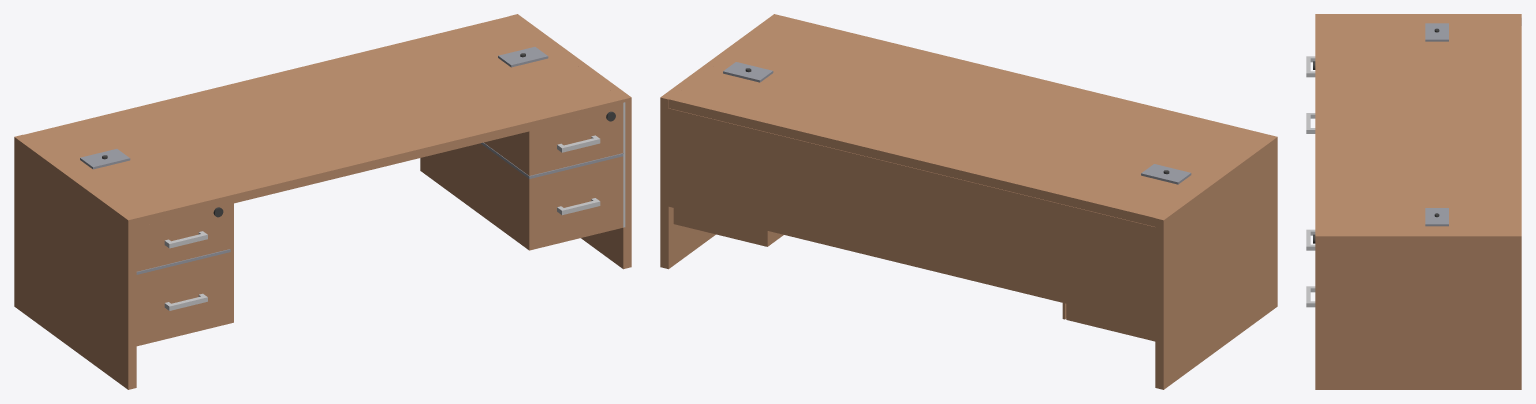
File: office_desk.glb
The picture shows the model from 3 angles, left to right: view 1: azimuth 30°, elevation 25°; view 2: azimuth 150°, elevation 25°; view 3: azimuth 270°, elevation 25°; orthographic projection. The views are drawn at different scales.
Parts seen in each view (by area): view 1: part_56189, part_56208, part_56207, part_56187, part_56172, part_56186, part_56199, part_56216, part_56213, part_56231; view 2: part_56189, part_56188, part_56208, part_56199, part_56207, part_56187, part_56213, part_56216; view 3: part_56189, part_56199, part_56208, part_56216, part_56213, part_56188.
Boxes of the visible parts, x1,y1,x2,y2 form: part_56189: (23, 16, 623, 226); part_56208: (14, 134, 136, 389); part_56207: (420, 143, 623, 250); part_56187: (136, 252, 230, 346); part_56172: (484, 108, 623, 175); part_56186: (136, 204, 230, 271); part_56199: (509, 14, 631, 269); part_56216: (80, 149, 130, 169); part_56213: (498, 47, 548, 67); part_56231: (481, 142, 623, 178); part_56189: (669, 16, 1268, 226); part_56188: (668, 108, 1155, 325); part_56208: (1155, 134, 1277, 389); part_56199: (660, 14, 782, 269); part_56207: (673, 208, 783, 246); part_56187: (1066, 304, 1155, 341); part_56213: (723, 62, 773, 82); part_56216: (1141, 164, 1191, 184); part_56189: (1315, 17, 1521, 232); part_56199: (1315, 232, 1521, 389); part_56208: (1315, 14, 1521, 25); part_56216: (1425, 23, 1448, 41); part_56213: (1425, 208, 1448, 226); part_56188: (1521, 26, 1521, 232).
Bounding box in the file's own units: 11.8 × 3.89 × 4.83.
